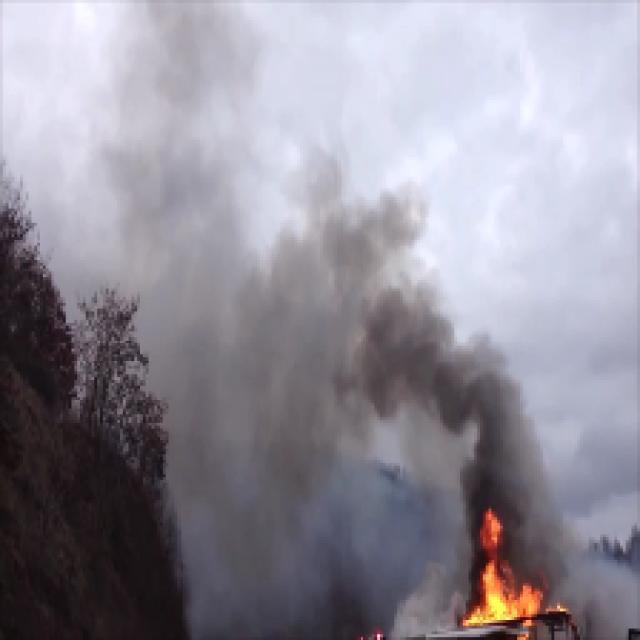Smoke: (100, 8, 253, 308), (186, 320, 326, 630), (341, 198, 446, 410), (457, 348, 541, 509)
